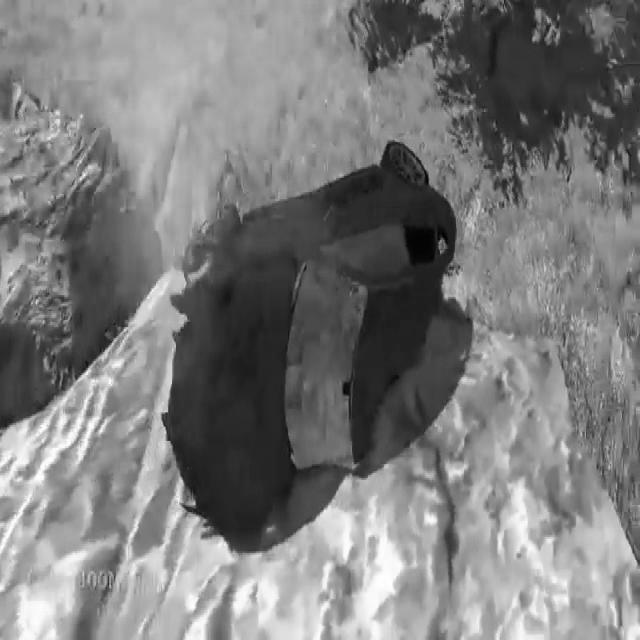accident: (159, 136, 461, 548)
